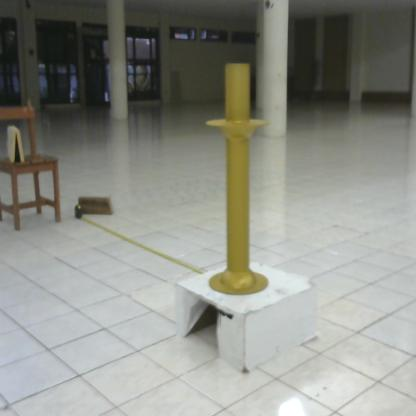pole: (201, 58, 274, 300)
